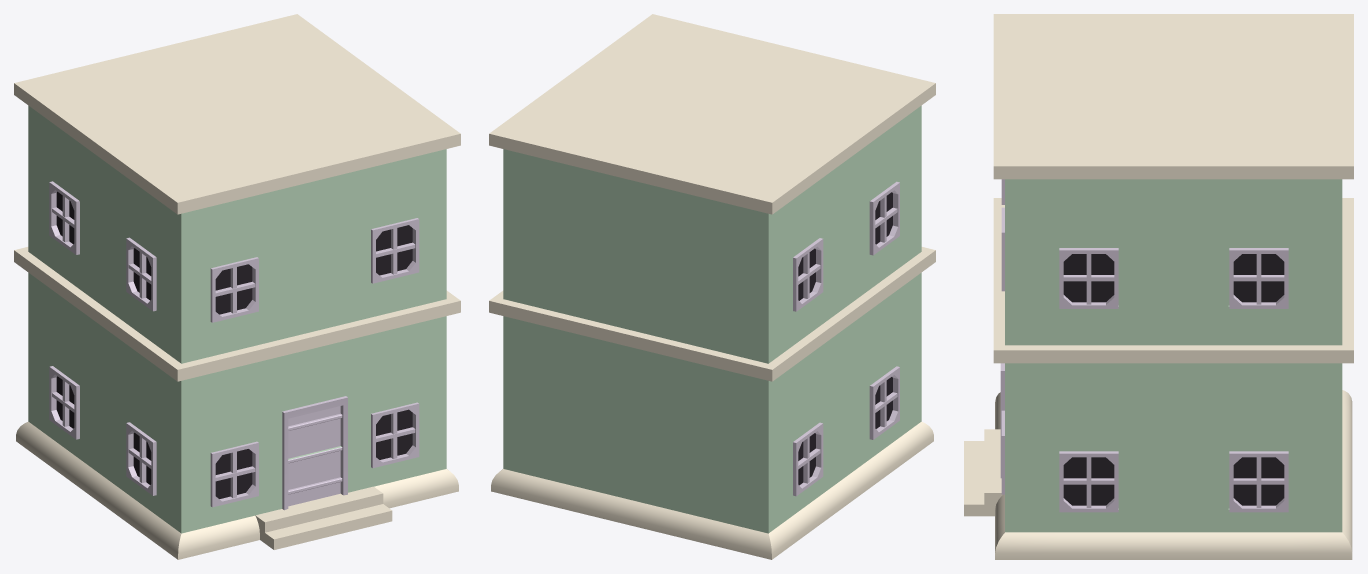
The model's file is 2f house sage green.fbx.
The picture shows the model from 3 angles, left to right: view 1: azimuth 30°, elevation 25°; view 2: azimuth 150°, elevation 25°; view 3: azimuth 270°, elevation 25°; orthographic projection. The views are drawn at different scales.
Parts seen in each view (by area): view 1: Cube; view 2: Cube; view 3: Cube.
Boxes of the visible parts, x1,y1,x2,y2 form: Cube: [14, 14, 460, 559]; Cube: [489, 14, 935, 559]; Cube: [964, 14, 1353, 559].
Bounding box in the file's own units: 9.21 × 11.12 × 9.96.
